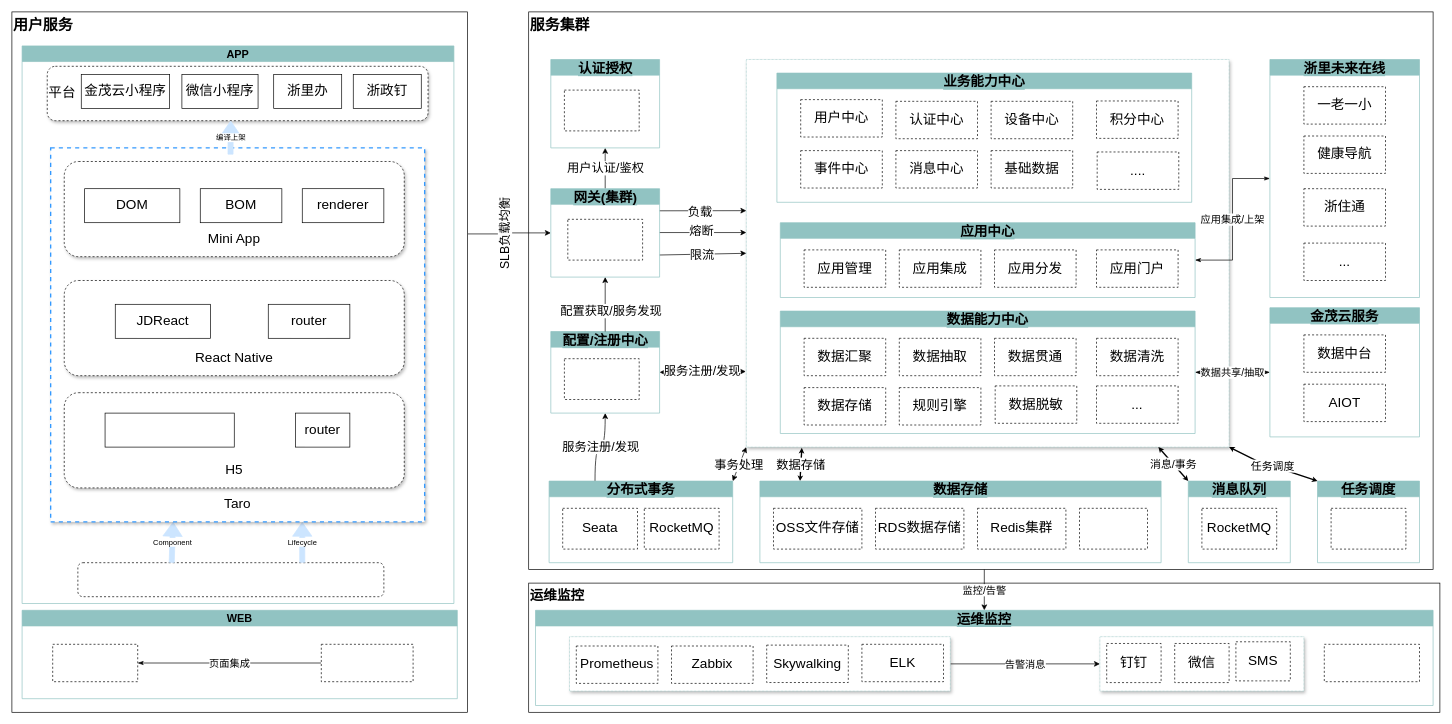
Image size: 1452x724. Some labels were removed from this diagram. The shapes that lost their labels are listed below. From the top down, each one's centre as x and y in pixels, then its label:
At point (601, 110): "OAuth2".
At point (605, 239): "Gateway".
At point (601, 379): "Nacos".
At point (169, 429): "Web Components".
At point (1113, 528): "ES集群".
At point (1368, 528): "XXL-JOB".
At point (230, 579): "移动端Framework".
At point (95, 663): "金茂管理后台".
At point (367, 663): "社区管理后台".
At point (1372, 663): "运维监控大屏".
